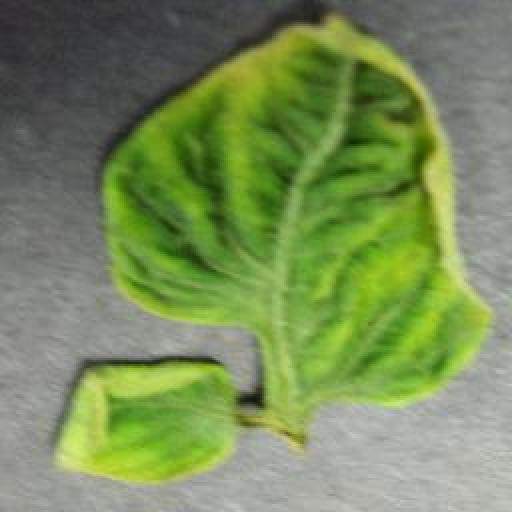disease_tomato: (98, 19, 499, 413), (52, 362, 238, 484)
